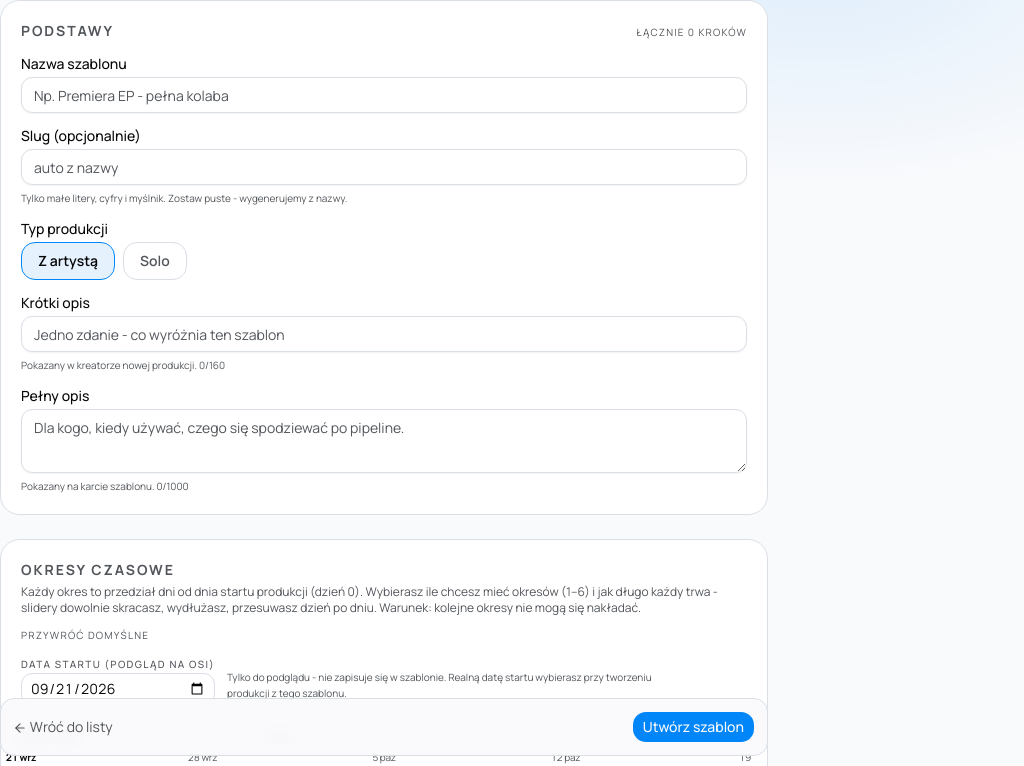
TemplateForm › zapis bez kroków pokazuje błąd walidacji i nie woła serwera
The width and height of the screenshot is (1024, 766).
Type "Szablon bez kroków" into the field labelled "Nazwa szablonu". click: [384, 95]
box: [21, 77, 747, 113]
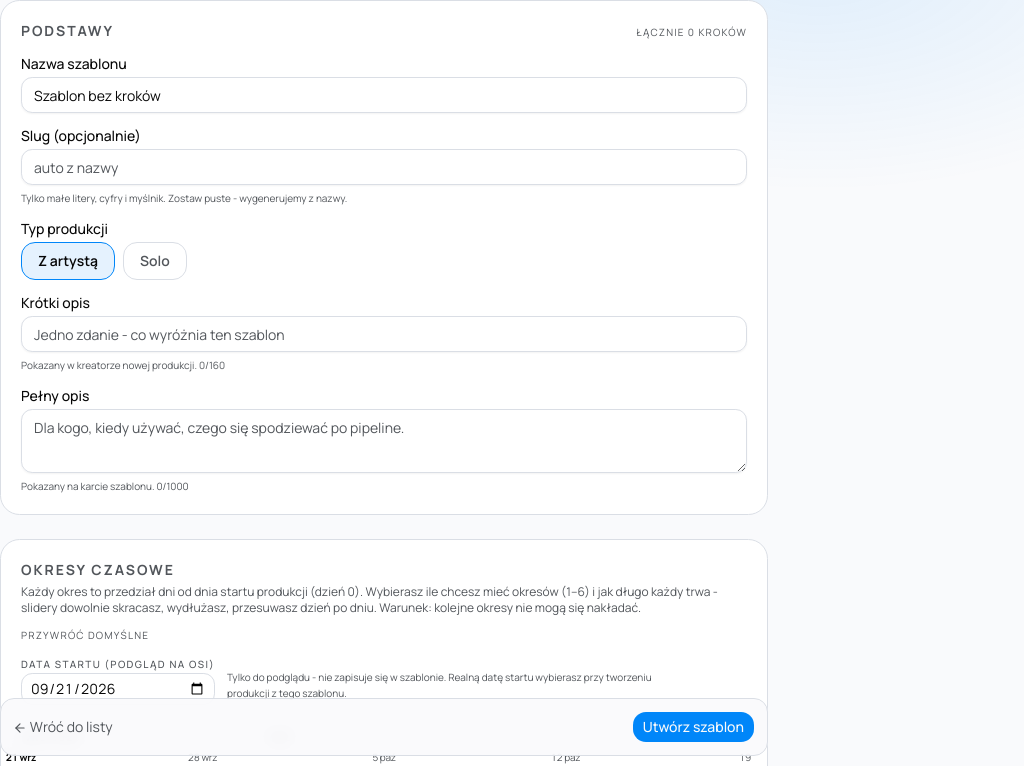
Click the button "Utwórz szablon". click: [693, 727]
box: [632, 711, 755, 743]
(page scrolled)
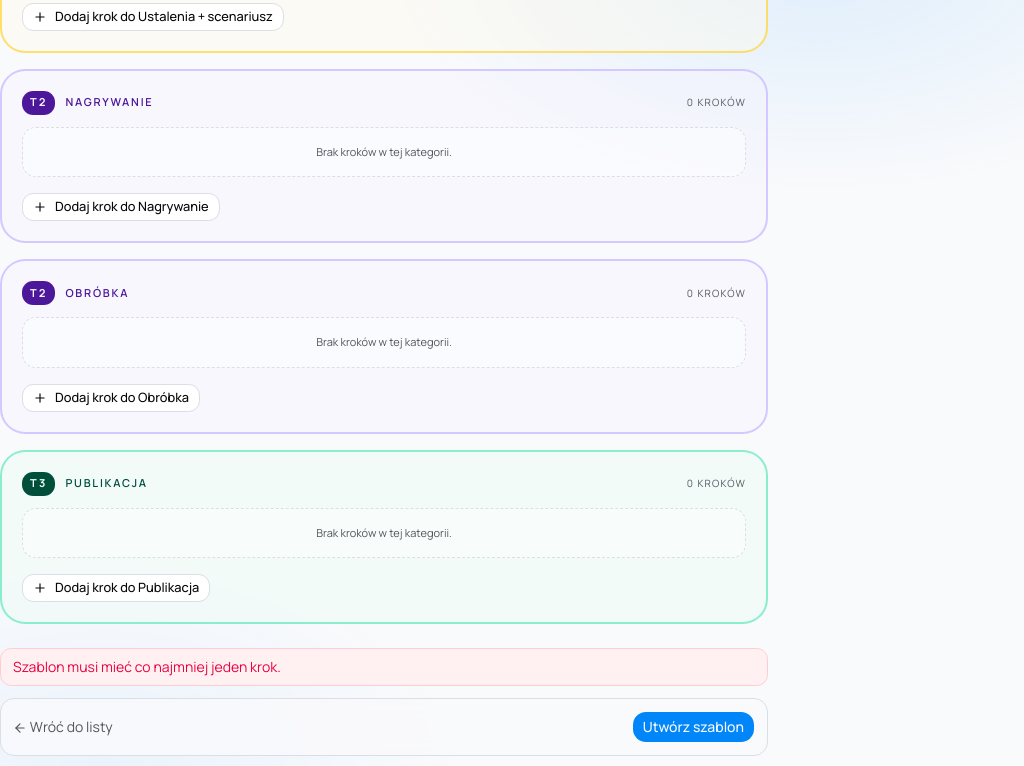
Expected: the text "Szablon musi mieć co najmniej jeden krok." is shown, [0, 648, 768, 686]
